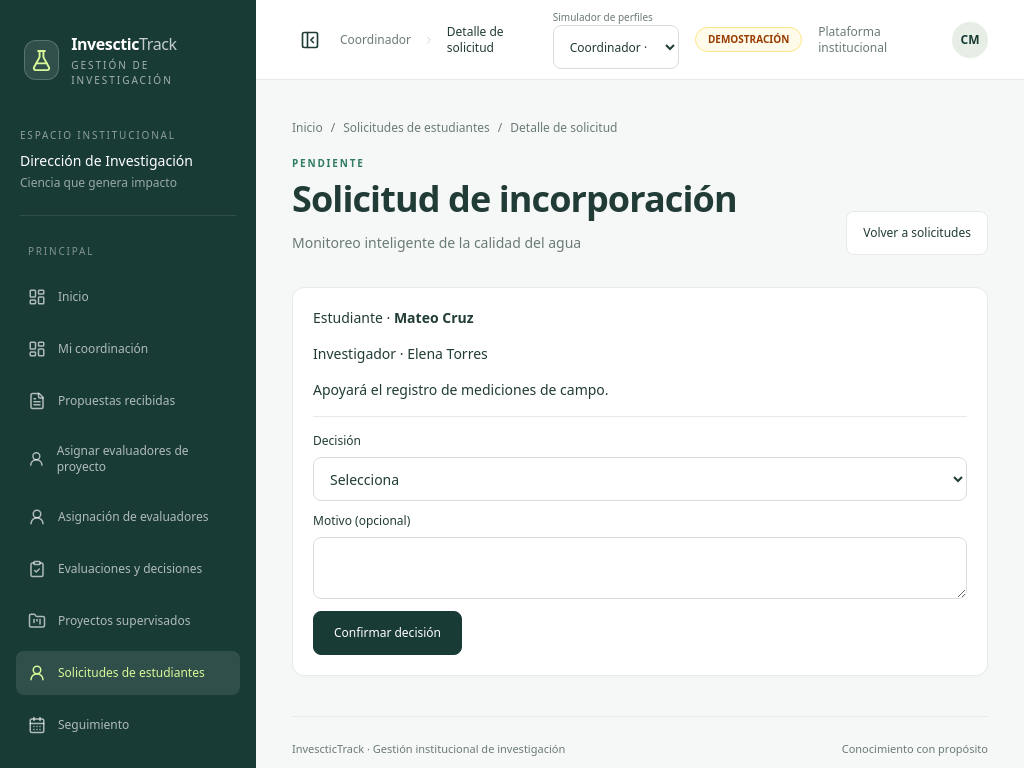
Test case: autoriza una incorporación desde su detalle y muestra la decisión confirmada
The image size is (1024, 768).
Expected: the heading "Solicitud de incorporación" is shown, [292, 179, 737, 219]
Expected: the text "Mateo Cruz" is shown, [394, 308, 474, 327]
Step 1. Select "Autorizar" in the dropdown labelled "Decisión" → point(640, 479), box [313, 457, 967, 501]
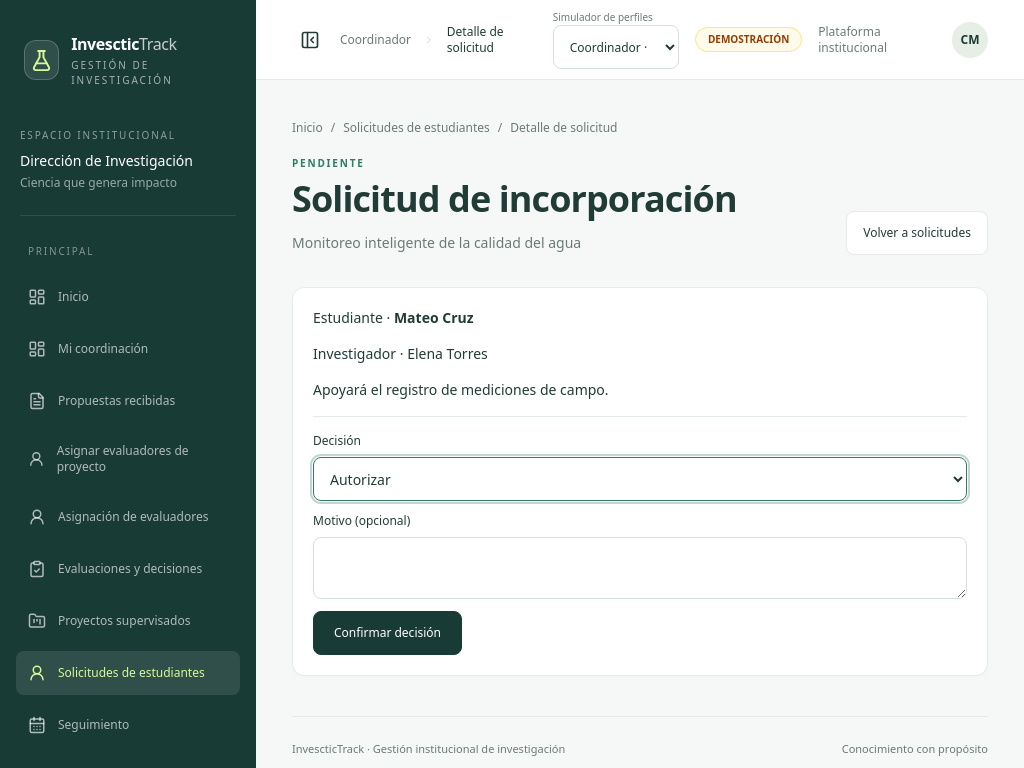
Step 2. Click the button "Confirmar decisión" → point(388, 633), box [313, 611, 462, 655]
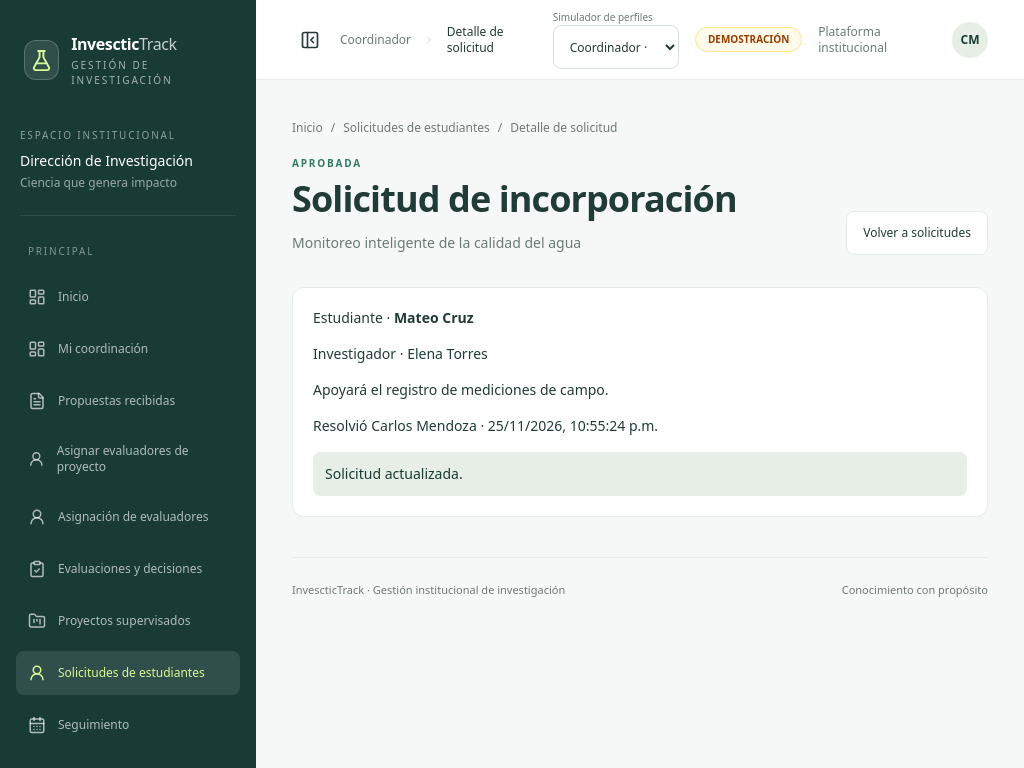
Now the text "Solicitud actualizada." is shown, box [313, 452, 967, 496]
Now the text "Aprobada" is shown, box [292, 156, 362, 170]
